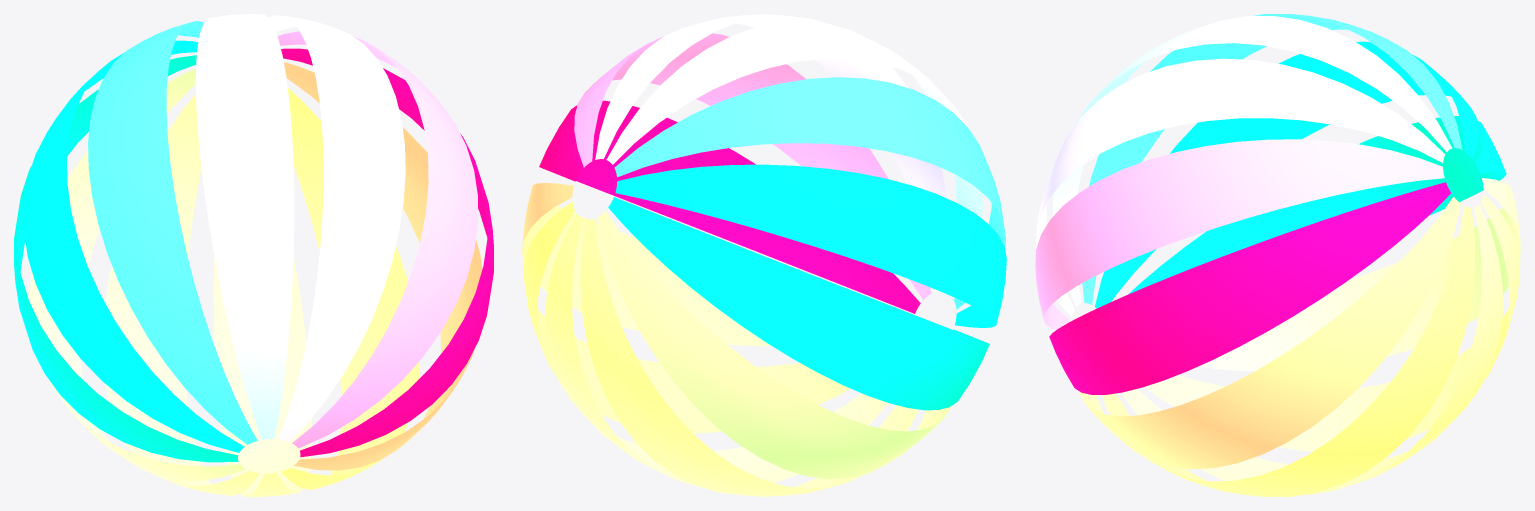
The model's file is superball_t.glb.
The picture shows the model from 3 angles, left to right: view 1: azimuth 30°, elevation 25°; view 2: azimuth 150°, elevation 25°; view 3: azimuth 270°, elevation 25°; orthographic projection.
Visible parts, largest first — view 1: Kugel-12, Kugel-11, Kugel-1, Kugel-10, Kugel-2, Kugel-5, Kugel-7, Kugel-9, Kugel-3, Kugel-6, Kugel-4, Kugel-8; view 2: Kugel-9, Kugel-10, Kugel-8, Kugel-11, Kugel-7, Kugel-3, Kugel-12, Kugel-6, Kugel-5, Kugel-2, Kugel-1, Kugel-4; view 3: Kugel-3, Kugel-2, Kugel-4, Kugel-1, Kugel-5, Kugel-9, Kugel-12, Kugel-8, Kugel-10, Kugel-6, Kugel-7, Kugel-11.
Part boxes in pixels (x1,y1,x2,y2): Kugel-12: (195, 14, 294, 439); Kugel-11: (88, 21, 257, 444); Kugel-1: (268, 15, 405, 441); Kugel-10: (23, 40, 244, 452); Kugel-2: (277, 31, 477, 448); Kugel-5: (280, 88, 419, 489); Kugel-7: (105, 94, 259, 495); Kugel-9: (14, 55, 238, 462); Kugel-3: (281, 48, 493, 457); Kugel-6: (213, 256, 312, 496); Kugel-4: (284, 62, 482, 470); Kugel-8: (30, 68, 245, 480); Kugel-9: (608, 197, 989, 410); Kugel-10: (615, 164, 1006, 327); Kugel-8: (597, 210, 951, 479); Kugel-11: (614, 77, 1005, 309); Kugel-7: (580, 218, 918, 496); Kugel-3: (539, 100, 920, 313); Kugel-12: (606, 21, 984, 296); Kugel-6: (544, 214, 888, 486); Kugel-5: (523, 201, 850, 433); Kugel-2: (574, 33, 931, 300); Kugel-1: (595, 14, 946, 292); Kugel-4: (522, 183, 771, 346); Kugel-3: (1049, 182, 1450, 394); Kugel-2: (1035, 139, 1444, 329); Kugel-4: (1079, 196, 1460, 469); Kugel-1: (1035, 58, 1445, 317); Kugel-5: (1102, 206, 1474, 496); Kugel-9: (1128, 116, 1506, 294); Kugel-12: (1053, 16, 1452, 306); Kugel-8: (1198, 178, 1520, 371); Kugel-10: (1095, 41, 1478, 308); Kugel-6: (1121, 204, 1502, 494); Kugel-7: (1145, 193, 1520, 451); Kugel-11: (1082, 14, 1462, 304).
Size of what is drawn, in the model's own units: 3 by 3.01 by 3.01.
